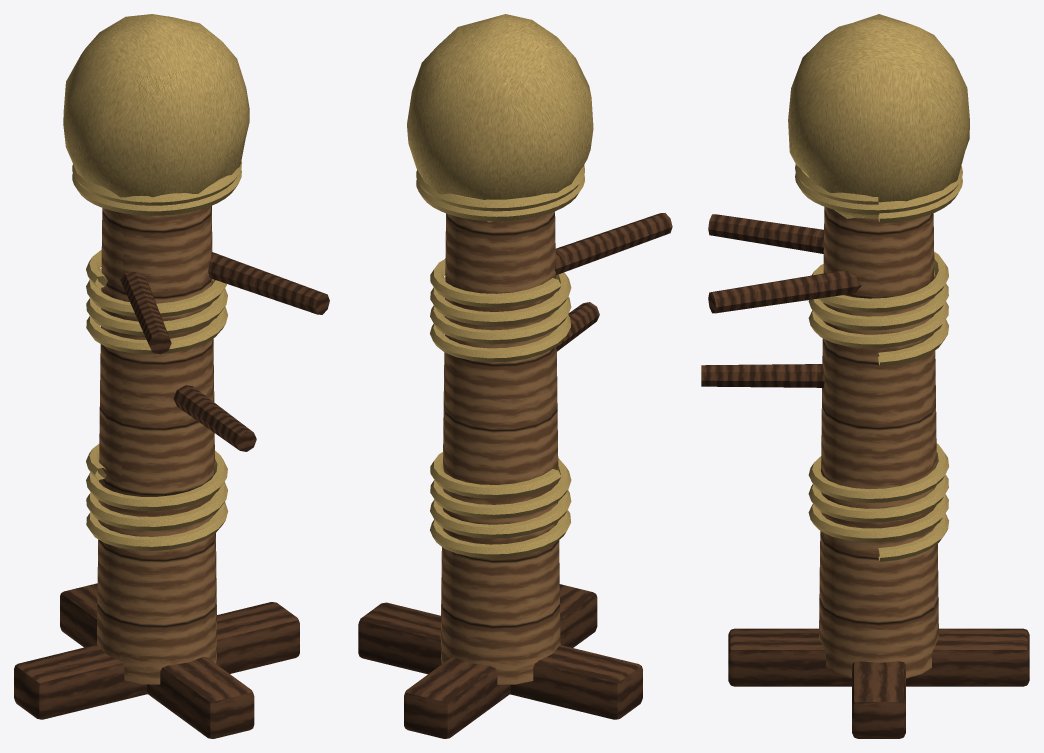
Rendered from training_dummy.gltf.
3 views of the same model, side by side, from view 1: azimuth 30°, elevation 25°; view 2: azimuth 150°, elevation 25°; view 3: azimuth 270°, elevation 25° (orthographic).
Visible parts, largest first — view 1: TrainingDummyMesh; view 2: TrainingDummyMesh; view 3: TrainingDummyMesh.
Boxes of the visible parts, x1,y1,x2,y2 form: TrainingDummyMesh: [14, 14, 329, 738]; TrainingDummyMesh: [358, 14, 672, 738]; TrainingDummyMesh: [701, 14, 1029, 738].
Bounding box in the file's own units: 0.95 × 2.29 × 1.03.
Materials: 3 (3 with a texture image).
